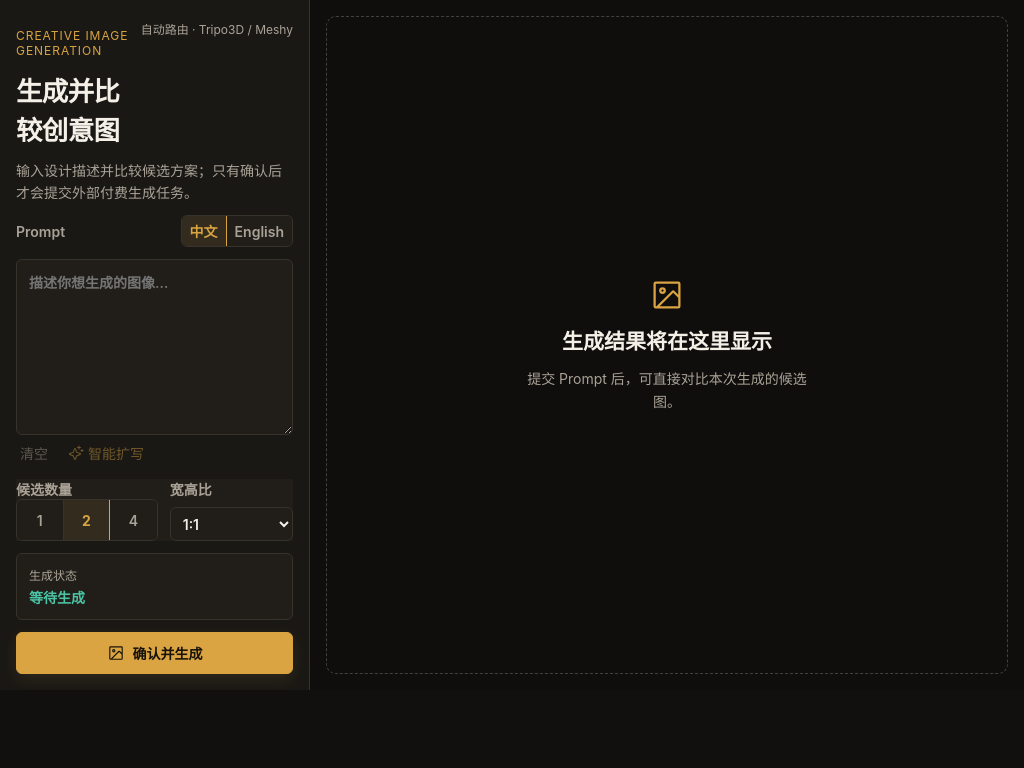
Test case: PromptImageWorkspace › clears the editable prompt without creating a job
Type "temporary prompt" into the text box named "中文 Prompt" at (154,347), box [16,259,293,435]
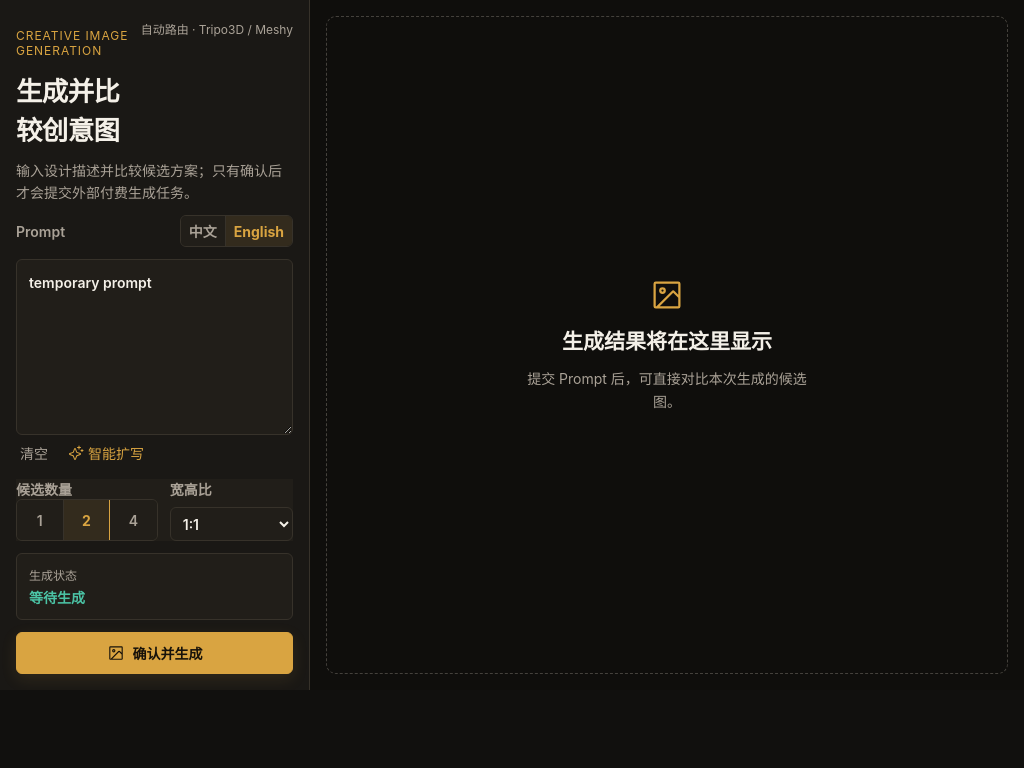
Click the button "清空" at (34,453), box [16,439,52,467]
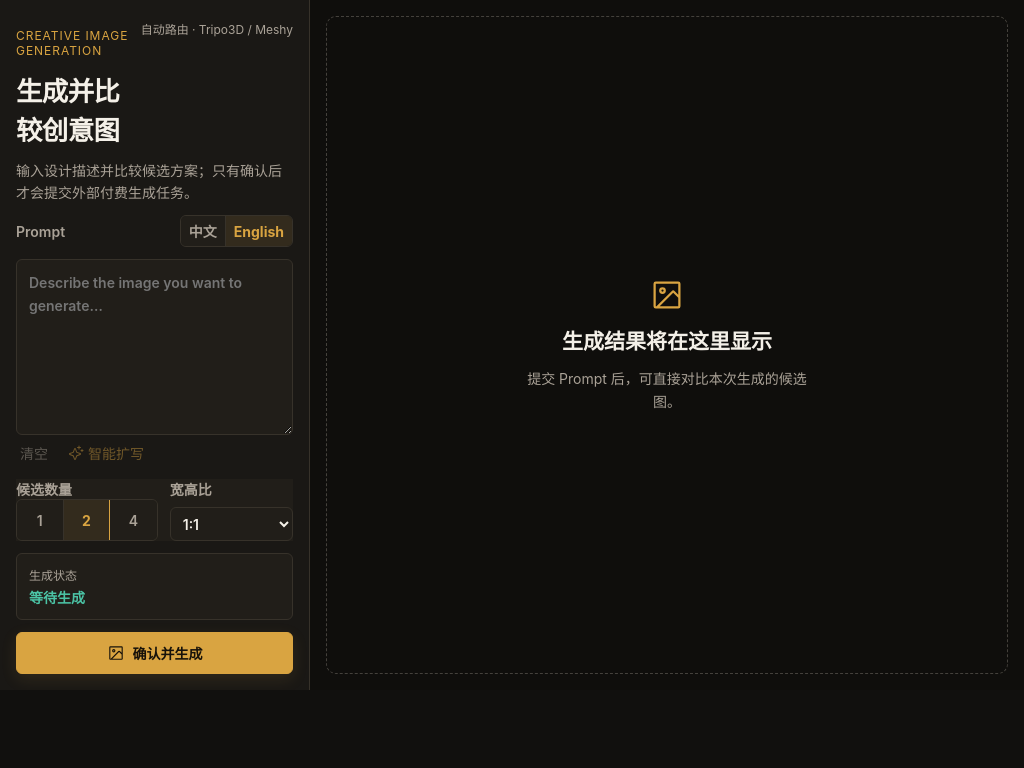
Check: the text box named "中文 Prompt" is empty, box [16,259,293,435]
